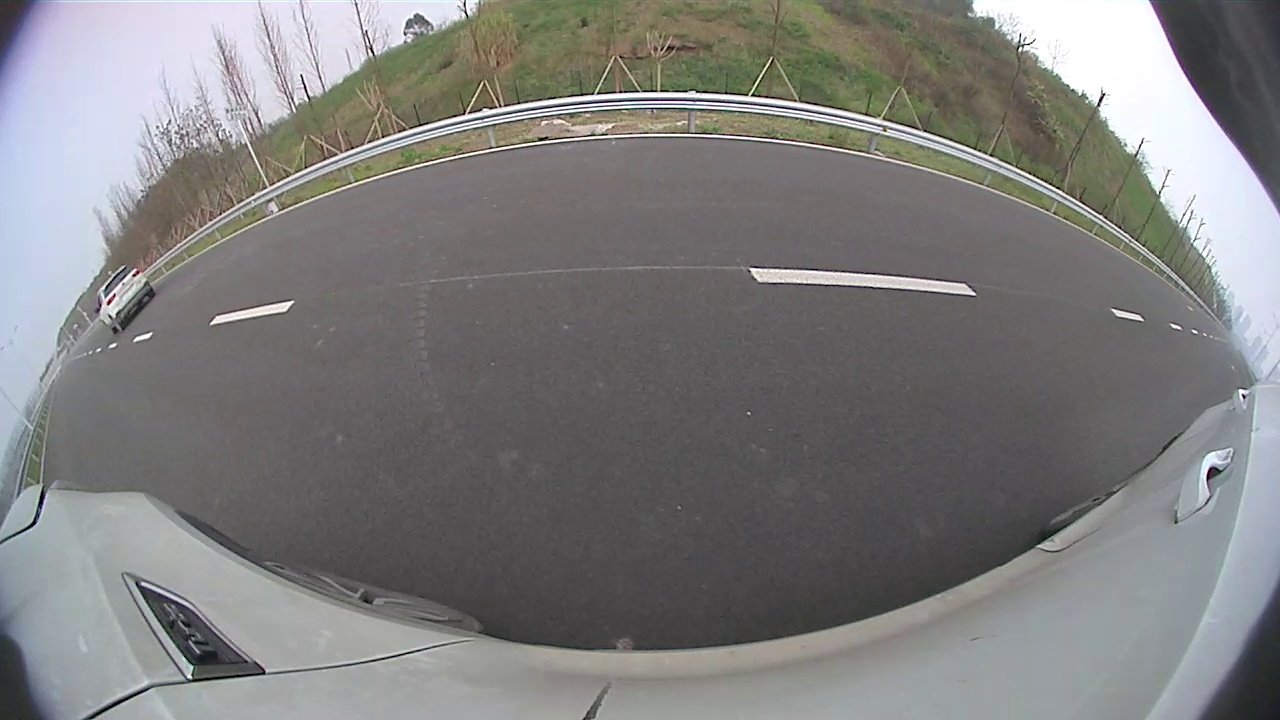car: (694, 148, 768, 197)
front: (696, 174, 705, 193)
rear: (710, 174, 721, 196)
